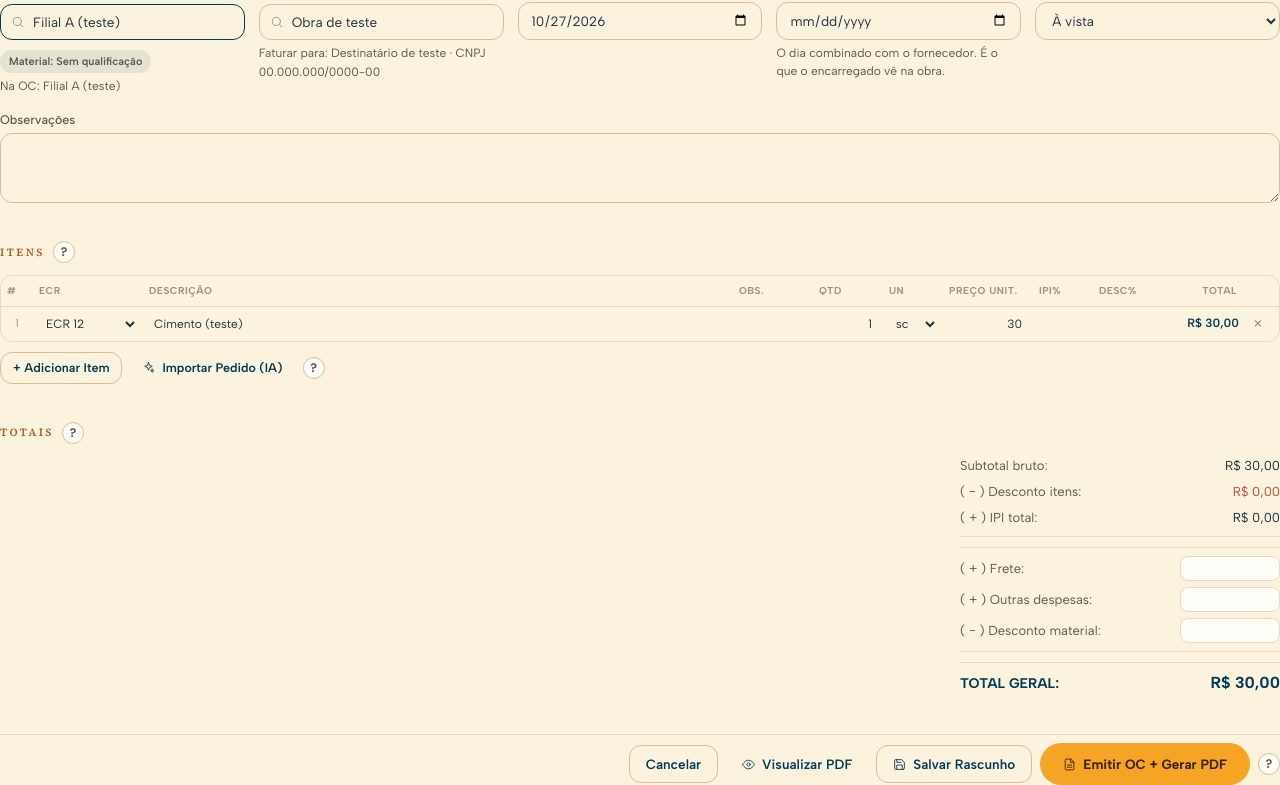
Scenario: D605 — a porta "Emitir OC" da Nova OC › empresa sem qualificação: zero gravação, e o "Qualificar agora" abre com a ECR da OC marcada
The width and height of the screenshot is (1280, 785).
(page scrolled)
Step 1. Click the button "Emitir OC + Gerar PDF" → (1145, 764), box [1040,743,1250,784]
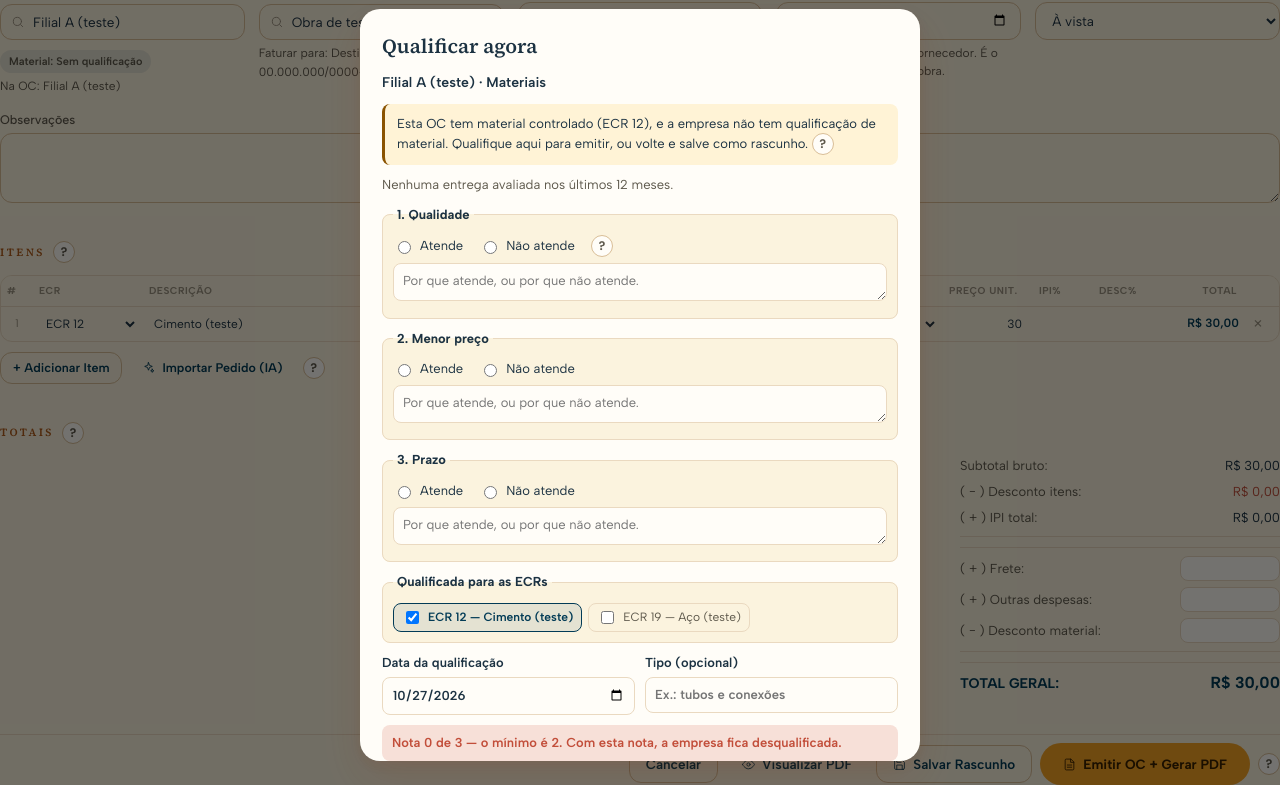
Expected: the text "não tem qualificação de material" is shown, [397,116,876,151]
Expected: the text "Qualifique aqui para emitir, ou volte e salve como rascunho." is shown, [397,116,876,151]
Expected: the checkbox labelled "ECR 12 — Cimento (teste)" is checked, [406,611,419,624]
